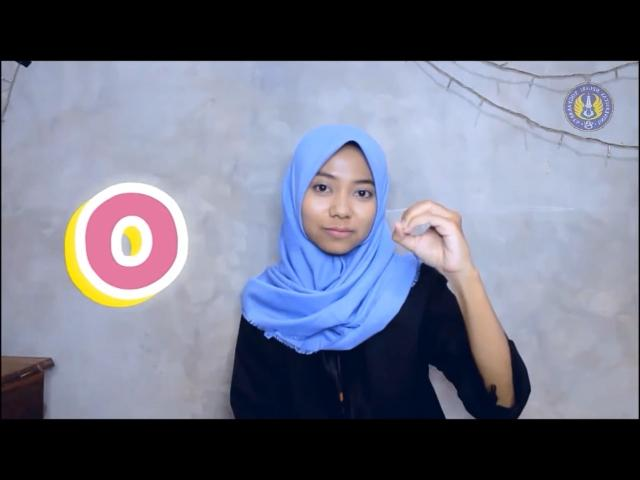O: (390, 196, 466, 274)
